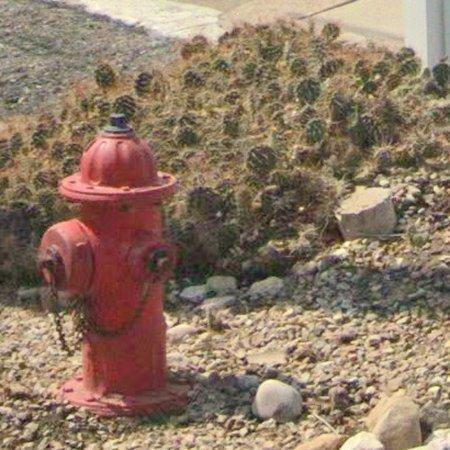a fire hydrant: (37, 114, 187, 417)
